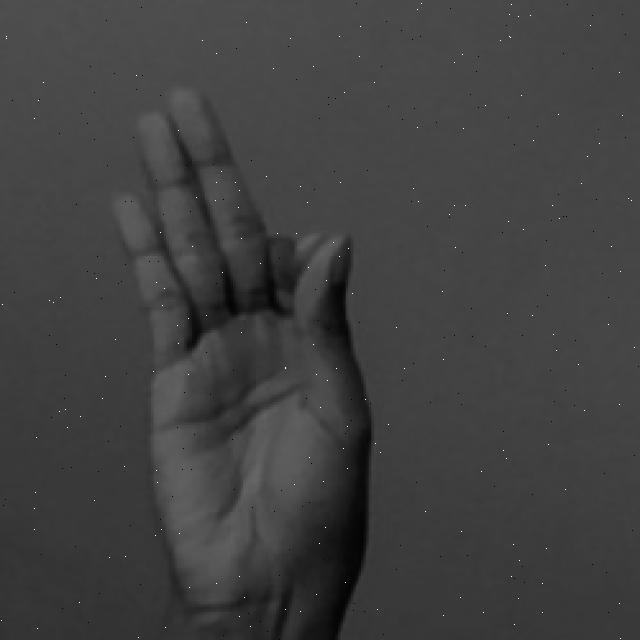F: (113, 84, 379, 640)
